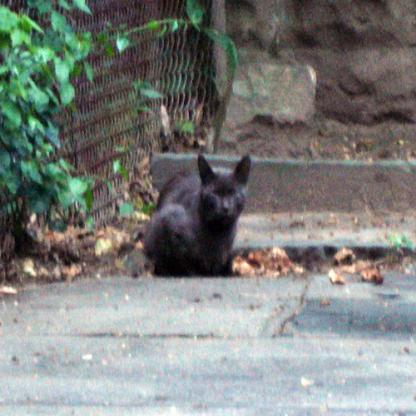cat: (138, 151, 250, 277)
